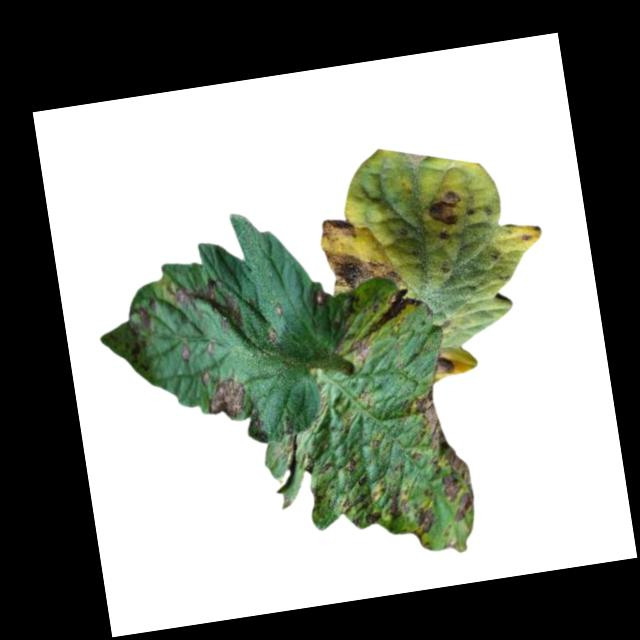Early_blight: (411, 382, 476, 525), (338, 286, 430, 364), (165, 272, 243, 340), (323, 237, 402, 297), (336, 470, 412, 530), (199, 362, 248, 423), (425, 189, 474, 229), (317, 216, 357, 248), (133, 298, 162, 337), (410, 506, 435, 541), (431, 353, 456, 376), (176, 341, 194, 365), (311, 286, 328, 307), (344, 457, 360, 474), (436, 228, 453, 243)
